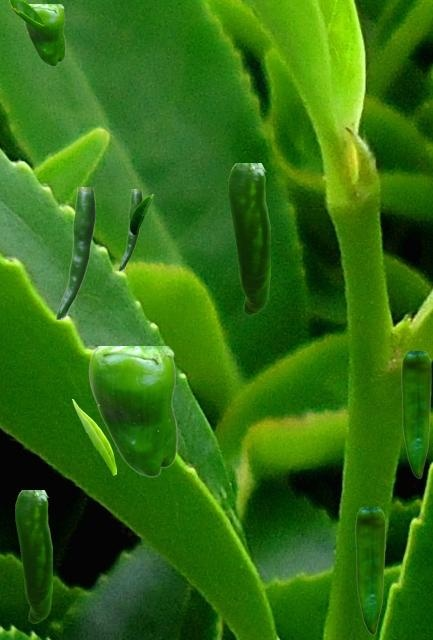green_chili: (88, 346, 176, 476), (228, 163, 269, 314), (55, 187, 94, 319), (15, 490, 51, 622), (401, 351, 430, 477), (355, 507, 384, 633), (23, 4, 64, 65), (118, 189, 141, 270)
